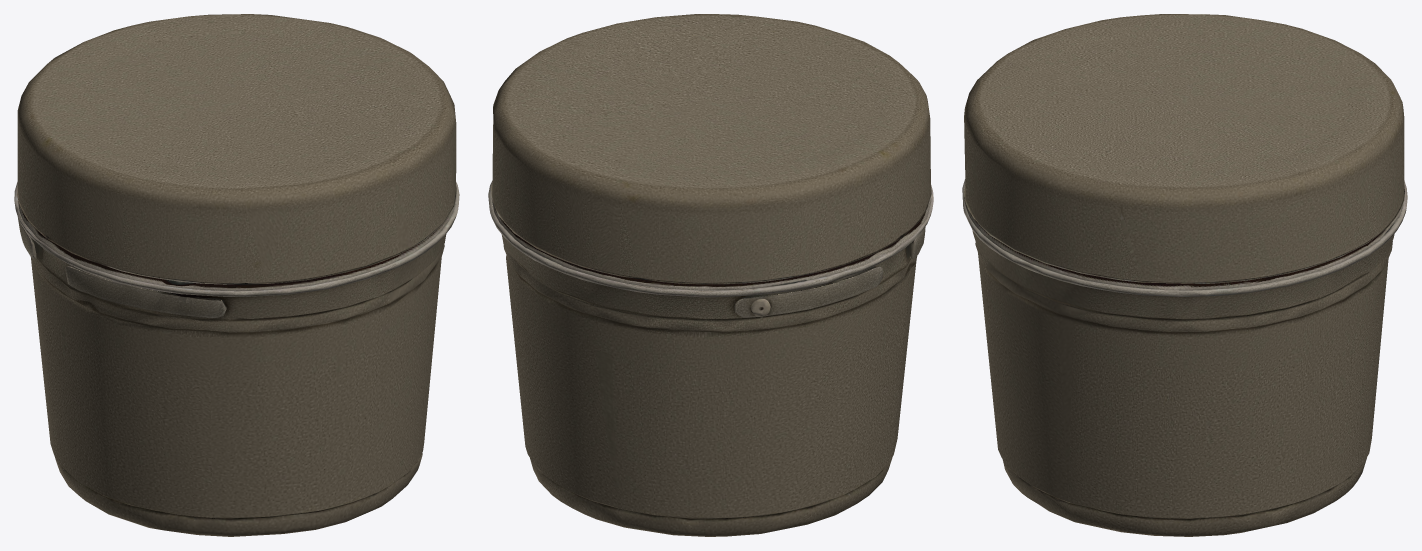
Rendered from snus_box.glb.
The picture shows the model from 3 angles, left to right: view 1: azimuth 30°, elevation 25°; view 2: azimuth 150°, elevation 25°; view 3: azimuth 270°, elevation 25°; orthographic projection.
Bounding box in the file's own units: 0.167 × 0.15 × 0.167.
1 material, 1 textured.
